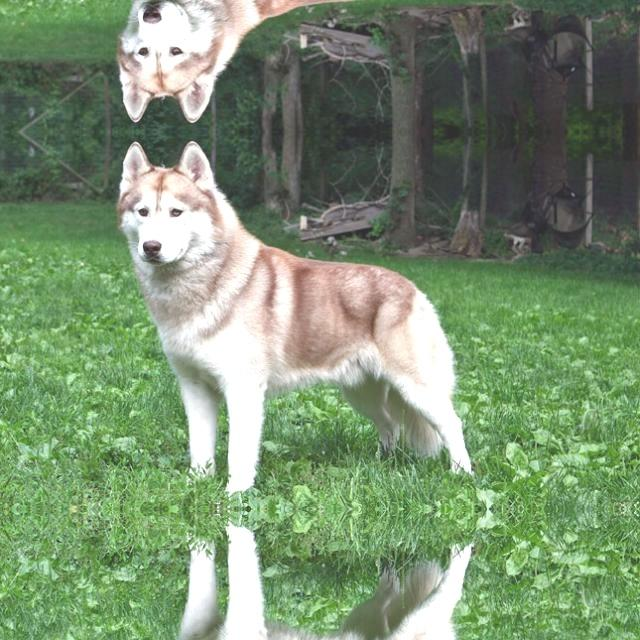dog: (114, 140, 492, 480), (113, 0, 492, 121), (113, 536, 492, 640)
